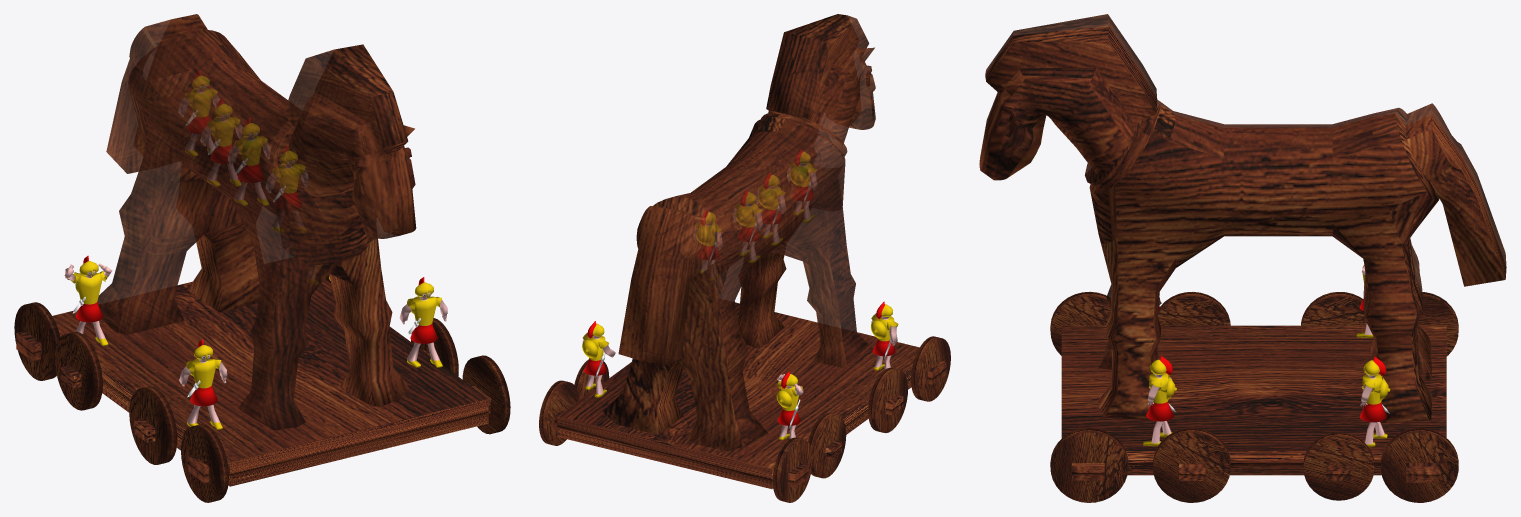
File: history_a_trojan_horse.glb
3 views of the same model, side by side, from view 1: azimuth 30°, elevation 25°; view 2: azimuth 150°, elevation 25°; view 3: azimuth 270°, elevation 25° (orthographic). The views are drawn at different scales.
Parts seen in each view (by area): view 1: Cylinder, Cube, Cylinder.001, Cylinder.012, Cylinder.010, Cylinder.009, Cylinder.011, Cylinder.008, Cylinder.015, Cylinder.014, Cylinder.013, Cylinder.016 (+1 smaller); view 2: Cylinder, Cube, Cylinder.001, Cylinder.010, Cylinder.009, Cylinder.011, Cylinder.012, Cylinder.006, Cylinder.016, Cylinder.014, Cylinder.015, Cylinder.013 (+1 smaller); view 3: Cylinder, Cube, Cylinder.007, Cylinder.008, Cylinder.006, Cylinder.001, Cylinder.005, Cylinder.010, Cylinder.009, Cylinder.012, Cylinder.011.
Boxes of the visible parts, x1,y1,x2,y2 form: Cylinder: [97, 14, 416, 430]; Cube: [16, 279, 490, 486]; Cylinder.001: [64, 255, 447, 429]; Cylinder.012: [54, 331, 102, 410]; Cylinder.010: [129, 386, 177, 464]; Cylinder.009: [181, 424, 228, 502]; Cylinder.011: [14, 302, 60, 380]; Cylinder.008: [462, 355, 510, 434]; Cylinder.015: [228, 118, 270, 205]; Cylinder.014: [200, 98, 242, 186]; Cylinder.013: [178, 71, 219, 156]; Cylinder.016: [266, 145, 308, 232]; Cylinder: [603, 14, 875, 451]; Cube: [554, 302, 946, 488]; Cylinder.001: [582, 301, 898, 440]; Cylinder.010: [868, 367, 907, 432]; Cylinder.009: [911, 336, 950, 401]; Cylinder.011: [772, 437, 812, 502]; Cylinder.012: [808, 413, 846, 478]; Cylinder.006: [539, 380, 578, 445]; Cylinder.016: [787, 149, 817, 222]; Cylinder.014: [733, 190, 763, 262]; Cylinder.015: [756, 172, 785, 245]; Cylinder.013: [693, 209, 722, 273]; Cylinder: [979, 14, 1506, 423]; Cube: [1061, 325, 1446, 482]; Cylinder.007: [1153, 428, 1230, 502]; Cylinder.008: [1050, 428, 1128, 502]; Cylinder.006: [1381, 428, 1458, 502]; Cylinder.001: [1143, 259, 1390, 447]; Cylinder.005: [1303, 432, 1374, 500]; Cylinder.010: [1158, 292, 1230, 325]; Cylinder.009: [1050, 291, 1111, 355]; Cylinder.012: [1301, 292, 1366, 325]; Cylinder.011: [1417, 292, 1458, 356].
Size of the model in its own units: 36.88 by 47.03 by 55.42.
8 materials, 2 textured.
